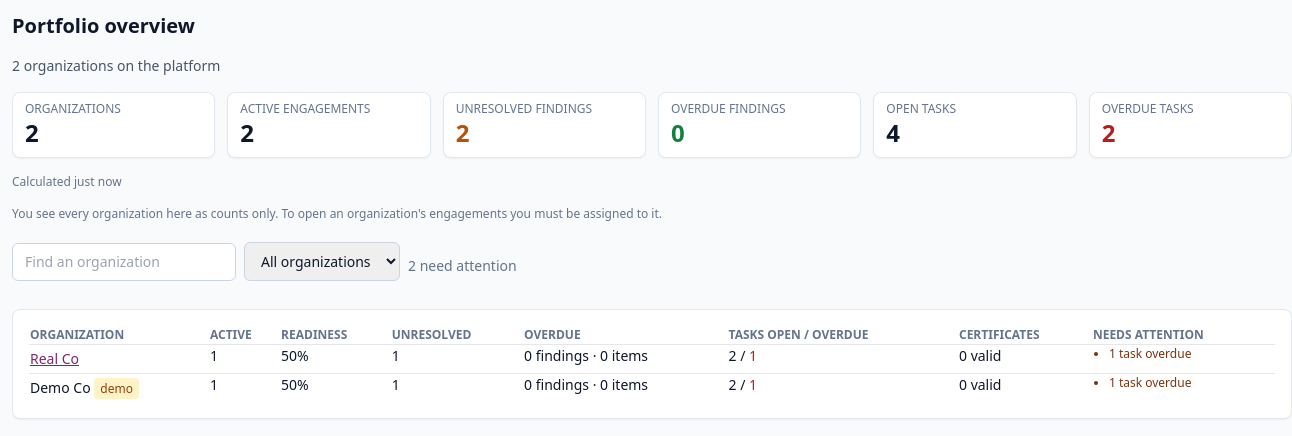
Test: the portfolio shows all organizations for an administrator, marks demo ones, and filters
Expected: the text "2 organizations on the platform" is shown, [12,56,220,75]
Expected: the text "demo" is shown, [94,378,139,399]
Select "Demo only" in the dropdown named "Show" at (322, 262), box [244,242,400,281]
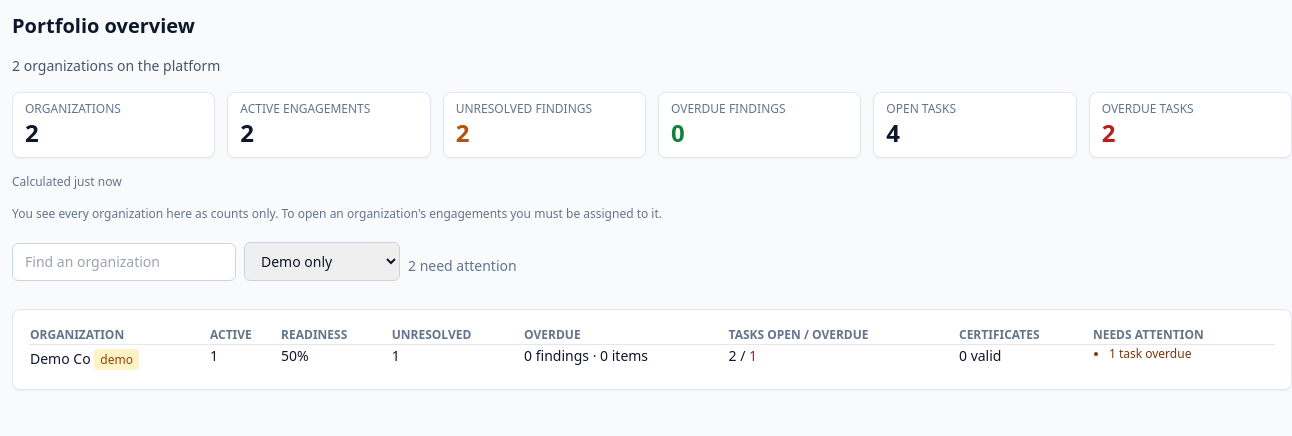
Expected: the text "Demo Co" is shown, [30,349,91,368]
Expected: the link "Real Co" is gone
